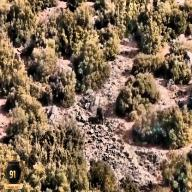boar: (91, 101, 106, 128)
